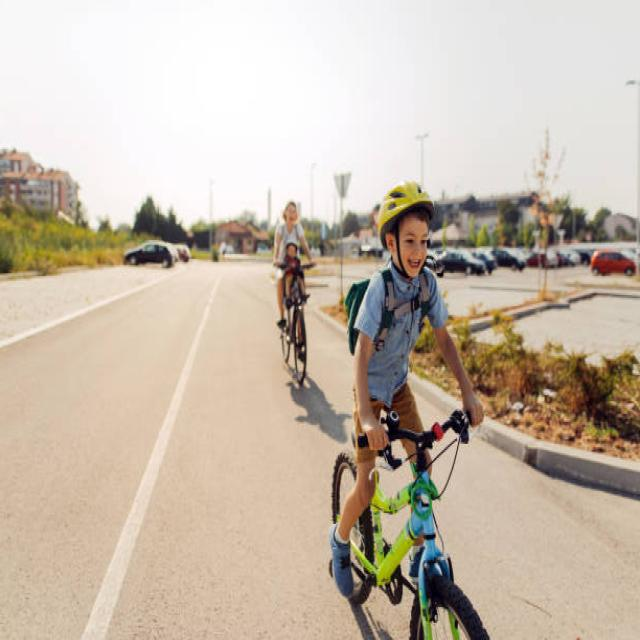bicycle: (329, 180, 488, 639)
